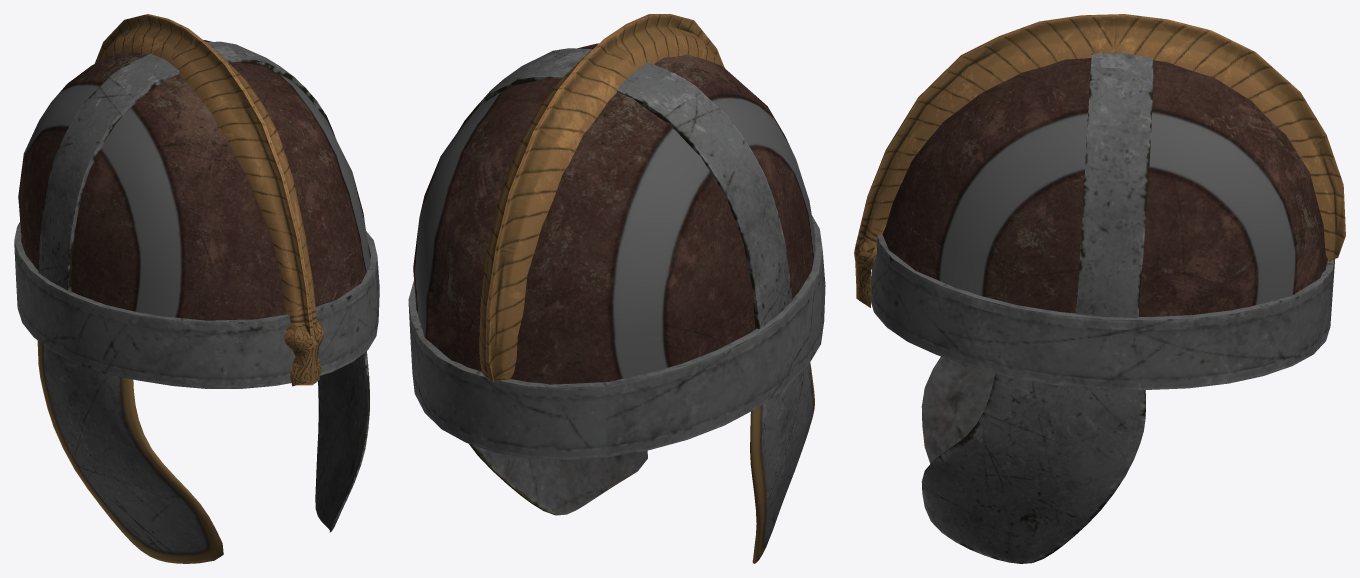
Rendered from cts_rohan_helmet4d.fbx.
3 renders of one model, left to right at view 1: azimuth 30°, elevation 25°; view 2: azimuth 150°, elevation 25°; view 3: azimuth 270°, elevation 25°, orthographic. The views are drawn at different scales.
Parts seen in each view (by area): view 1: cts_rohan_helmet4d; view 2: cts_rohan_helmet4d; view 3: cts_rohan_helmet4d.
Part boxes in pixels (x1,y1,x2,y2): cts_rohan_helmet4d: (14,14,379,563); cts_rohan_helmet4d: (408,14,825,563); cts_rohan_helmet4d: (854,14,1345,563).
Size of the model in its own units: 0.1901 by 0.2557 by 0.2898.
1 material, 1 textured.
